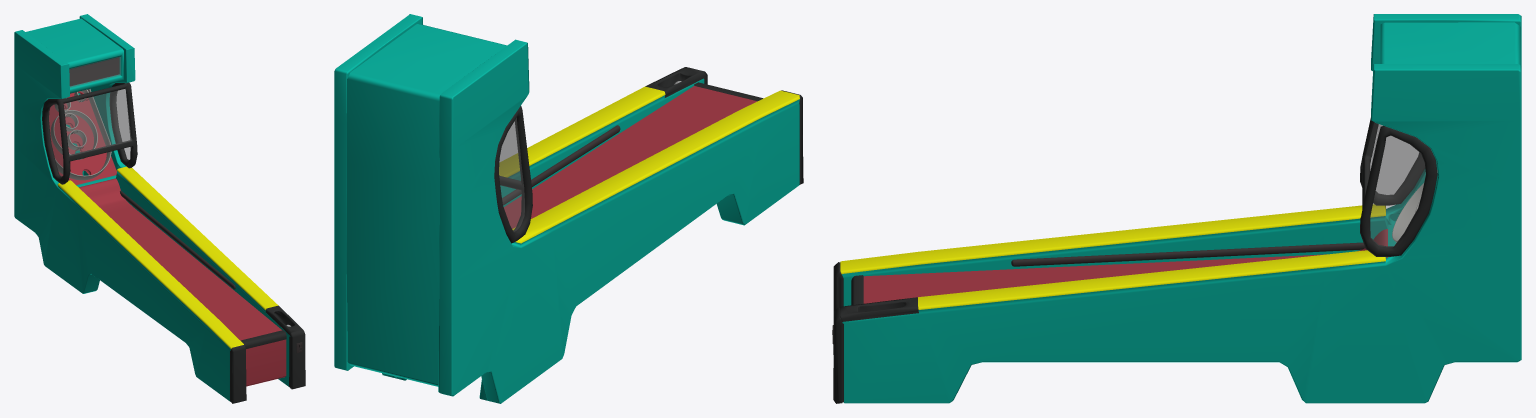
The model's file is SM_skeeball00.fbx.
3 renders of one model, left to right at view 1: azimuth 30°, elevation 25°; view 2: azimuth 150°, elevation 25°; view 3: azimuth 270°, elevation 25°, orthographic. The views are drawn at different scales.
Parts seen in each view (by area): view 1: sides, track, topPart, glassFront, cage, backplate, screen, glassLeft, bumpers, glassRight, tenPts, trackFront (+1 smaller); view 2: sides, topPart, track, cage, glassLeft, bumpers, glassFront; view 3: sides, track, topPart, cage, glassRight, bumpers, glassLeft, tenPts.
Boxes of the visible parts, x1,y1,x2,y2 form: sides: (14, 14, 305, 403); track: (79, 178, 286, 386); topPart: (26, 18, 123, 187); glassFront: (64, 89, 131, 155); cage: (42, 82, 137, 184); backplate: (49, 91, 116, 185); screen: (69, 57, 120, 87); glassLeft: (47, 104, 62, 176); bumpers: (120, 190, 235, 289); glassRight: (115, 89, 130, 159); tenPts: (55, 89, 111, 180); trackFront: (240, 330, 286, 348); sides: (334, 14, 803, 403); topPart: (346, 24, 506, 386); track: (504, 86, 756, 228); cage: (494, 106, 532, 243); glassLeft: (499, 118, 524, 231); bumpers: (502, 125, 620, 205); glassFront: (499, 122, 520, 180); sides: (833, 14, 1521, 403); track: (863, 229, 1387, 303); topPart: (1380, 22, 1520, 257); cage: (1360, 118, 1437, 256); glassRight: (1370, 136, 1425, 246); bumpers: (1011, 242, 1365, 266); glassLeft: (1371, 124, 1418, 195); tenPts: (1392, 170, 1437, 242).
Size of the model in its own units: 81.43 by 224 by 418.
